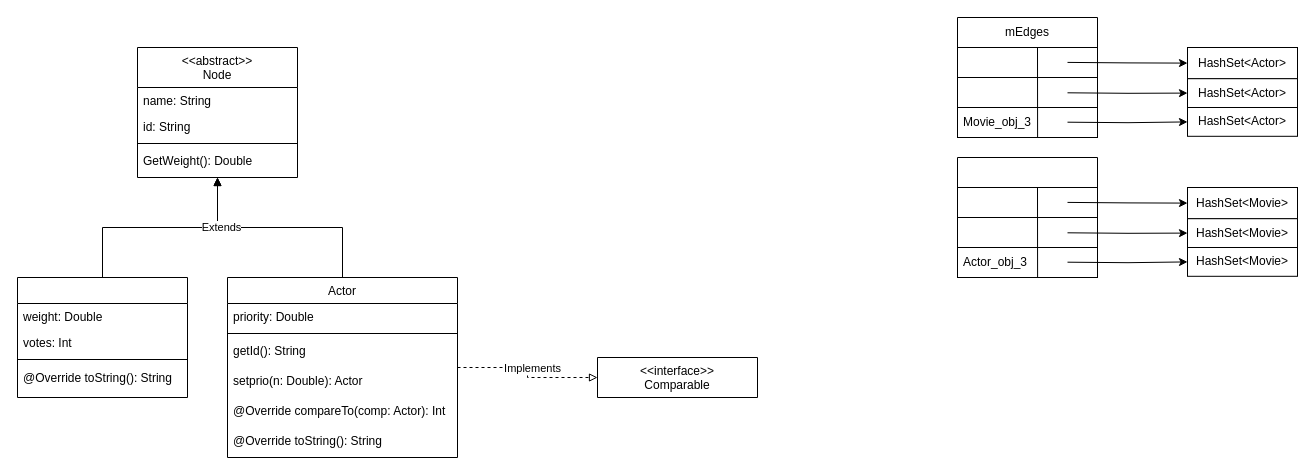
Image size: 1315x475. Some labels were removed from this diagram. Here are the shapes that lost their labels. From the top down, the box of each, then its label:
(956, 46, 1098, 78): Movie_obj_1
(956, 76, 1098, 108): Movie_obj_2
(956, 186, 1098, 218): Actor_obj_1
(956, 156, 1098, 278): aEdges
(956, 216, 1098, 248): Actor_obj_2
(16, 276, 188, 398): Movie
